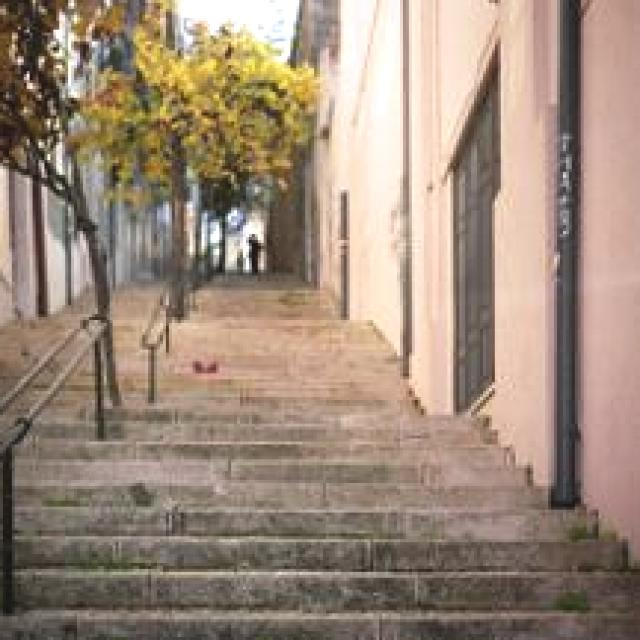upstair: (1, 338, 605, 614)
